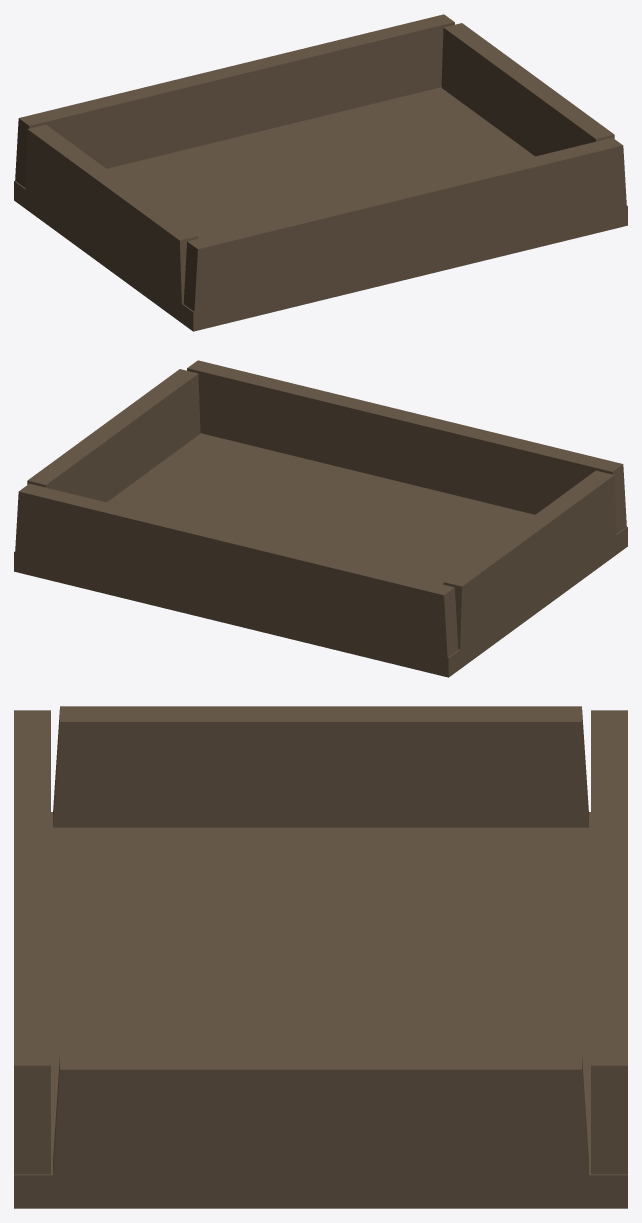
Rendered from SM_EnvelopeTray_khong.glb.
The picture shows the model from 3 angles, top to bottom: view 1: azimuth 30°, elevation 25°; view 2: azimuth 150°, elevation 25°; view 3: azimuth 270°, elevation 25°; orthographic projection. The views are drawn at different scales.
Visible parts, largest first — view 1: tray_base, tray_wall_S, tray_wall_N, tray_wall_W, tray_wall_E; view 2: tray_base, tray_wall_N, tray_wall_S, tray_wall_W, tray_wall_E; view 3: tray_base, tray_wall_E, tray_wall_W, tray_wall_N, tray_wall_S.
Part boxes in pixels (x1,y1,x2,y2): tray_base: (14, 87, 627, 331); tray_wall_S: (183, 137, 626, 323); tray_wall_N: (15, 14, 454, 187); tray_wall_W: (25, 124, 198, 322); tray_wall_E: (441, 23, 614, 156); tray_base: (14, 433, 627, 677); tray_wall_N: (15, 483, 458, 674); tray_wall_S: (187, 360, 626, 533); tray_wall_W: (443, 470, 617, 669); tray_wall_E: (27, 369, 200, 502); tray_base: (14, 812, 627, 1208); tray_wall_E: (51, 1054, 590, 1208); tray_wall_W: (53, 706, 588, 827); tray_wall_N: (591, 710, 627, 1174); tray_wall_S: (14, 710, 50, 1174).
Bounding box in the file's own units: 0.28 × 0.05 × 0.2.
